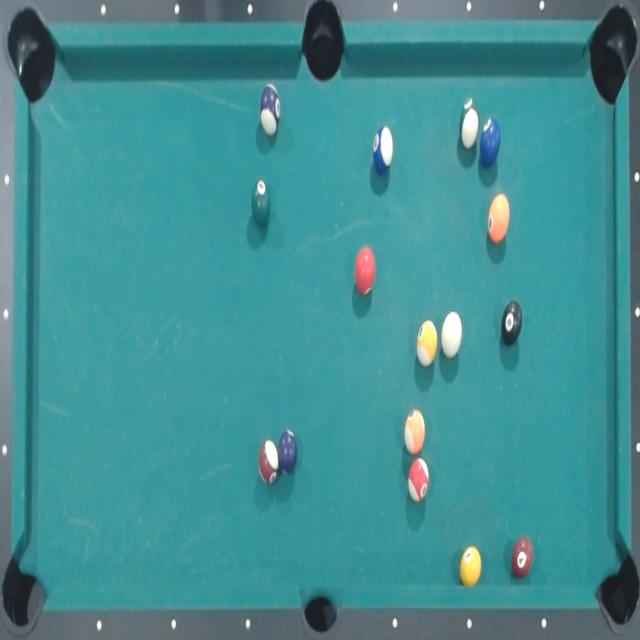black_8ball: (499, 300, 524, 347)
blue_solid: (478, 118, 501, 166)
blue_stripe: (370, 122, 395, 174)
cue_ball: (439, 309, 463, 362)
green_solid: (251, 178, 271, 230)
green_stripe: (456, 96, 481, 152)
maroon_solid: (509, 534, 534, 576)
maroon_stripe: (256, 439, 280, 485)
orange_solid: (484, 192, 512, 243)
orange_stripe: (401, 407, 427, 455)
purple_solid: (277, 428, 298, 475)
purple_stripe: (258, 82, 282, 138)
red_solid: (353, 247, 376, 300)
red_stripe: (406, 456, 430, 506)
yellow_solid: (458, 544, 483, 586)
yellow_stripe: (414, 318, 439, 368)
